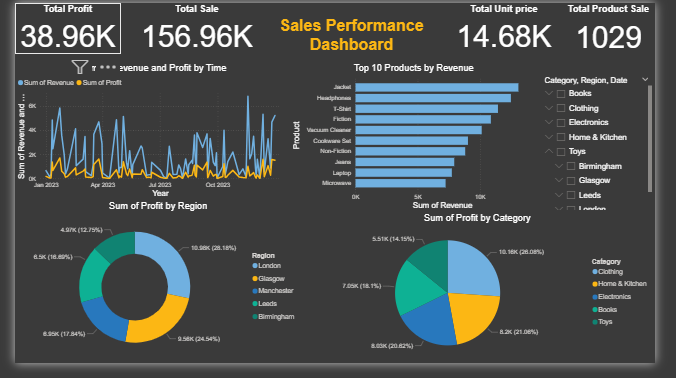

This screenshot's page, from the dashboard's own definition file:
{"tool":"powerbi","page":{"name":"Page 1","canvas":[1280,720],"ordinal":0},"visuals":[{"type":"clusteredColumnChart","fields":{"Y":["Sum(retail_sales_data.Revenue)","Sum(retail_sales_data.Unit Price)","Sum(retail_sales_data.Units Sold)"]},"box":[0,574.5,488.8,146.1],"z":0},{"type":"lineChart","fields":{"Y":["Sum(retail_sales_data.Revenue)","Sum(retail_sales_data.Profit)"],"Category":["retail_sales_data.Date.Variation.Date Hierarchy.Year","retail_sales_data.Date.Variation.Date Hierarchy.Quarter","retail_sales_data.Date.Variation.Date Hierarchy.Month","retail_sales_data.Date.Variation.Date Hierarchy.Day"]},"box":[0,117.6,551,233.5],"z":1000},{"type":"clusteredBarChart","fields":{"Category":["retail_sales_data.Product"],"Y":["Sum(retail_sales_data.Revenue)"]},"box":[752.5,358.8,527.5,361.2],"z":2000},{"type":"pieChart","fields":{"Category":["retail_sales_data.Category"],"Y":["Sum(retail_sales_data.Profit)"]},"box":[551,105.8,495.5,241.9],"z":3000},{"type":"donutChart","fields":{"Category":["retail_sales_data.Region"],"Y":["Sum(retail_sales_data.Profit)"]},"box":[0,344.4,551,230.1],"z":4000},{"type":"card","fields":{"Values":["Sum(retail_sales_data.Profit)"]},"box":[0,0,211.7,102.5],"z":5000},{"type":"card","fields":{"Values":["Sum(retail_sales_data.Revenue)"]},"box":[220.1,3.4,213.3,102.5],"z":6000},{"type":"card","fields":{"Values":["Sum(retail_sales_data.Unit Price)"]},"box":[898.7,1.7,194.9,102.5],"z":7000},{"type":"card","fields":{"Values":["Sum(retail_sales_data.Units Sold)"]},"box":[1093.5,0,186.5,105.8],"z":8000},{"type":"slicer","fields":{"Values":["retail_sales_data.Category","retail_sales_data.Region","retail_sales_data.Date"]},"box":[1046.5,117.6,233.5,241.9],"z":9000},{"type":"textbox","box":[428.3,21.8,487.1,60.5],"z":10000}]}

Visuals, with their boxes in screenshot pixels (x1, y1, x2, y2), scaled from the page's 1280x720 canvas onto the 676x378 screenshot:
clusteredColumnChart - Sum(retail_sales_data.Revenue) x Sum(retail_sales_data.Unit Price): region(0, 302, 258, 377)
lineChart - Sum(retail_sales_data.Revenue) x Sum(retail_sales_data.Profit): region(0, 62, 291, 184)
clusteredBarChart - retail_sales_data.Product x Sum(retail_sales_data.Revenue): region(397, 188, 675, 377)
pieChart - retail_sales_data.Category x Sum(retail_sales_data.Profit): region(291, 56, 553, 183)
donutChart - retail_sales_data.Region x Sum(retail_sales_data.Profit): region(0, 181, 291, 302)
card - Sum(retail_sales_data.Profit): region(0, 0, 112, 54)
card - Sum(retail_sales_data.Revenue): region(116, 2, 229, 56)
card - Sum(retail_sales_data.Unit Price): region(475, 1, 578, 55)
card - Sum(retail_sales_data.Units Sold): region(578, 0, 675, 56)
slicer - retail_sales_data.Category x retail_sales_data.Region: region(553, 62, 675, 189)
textbox: region(226, 11, 483, 43)
